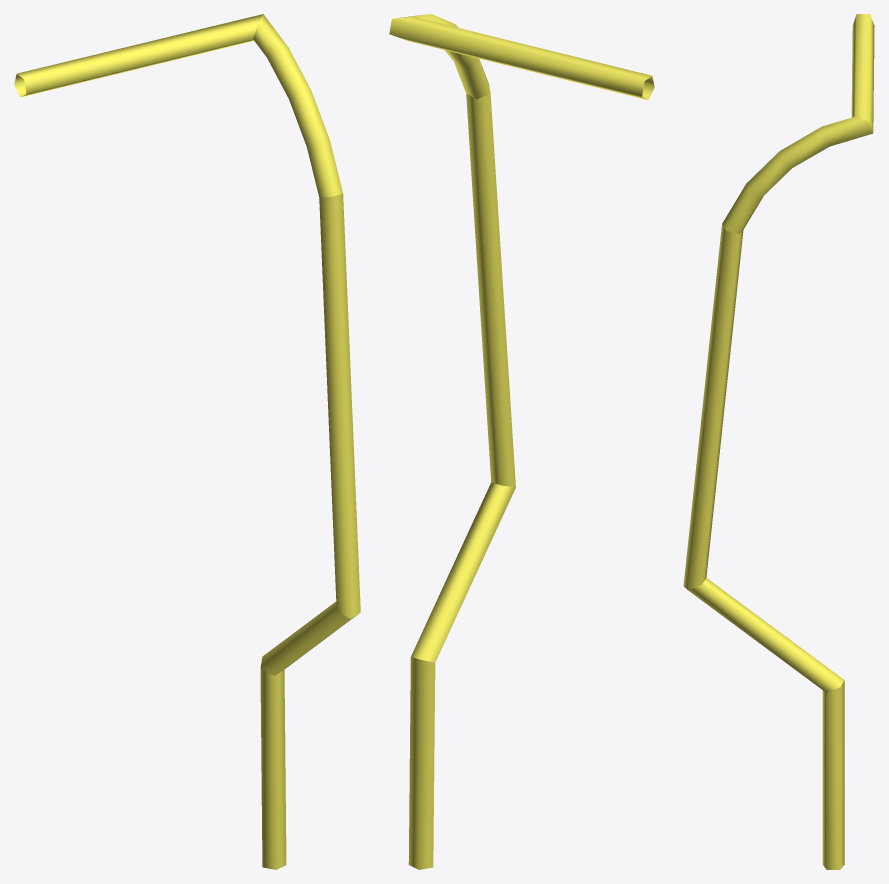
File: original-35.obj
3 renders of one model, left to right at view 1: azimuth 30°, elevation 25°; view 2: azimuth 150°, elevation 25°; view 3: azimuth 270°, elevation 25°, orthographic. The views are drawn at different scales.
Parts seen in each view (by area): view 1: #ID176; view 2: #ID176; view 3: #ID176.
Boxes of the visible parts, left/top/right/bottom form: #ID176: left=14, top=14, right=360, bottom=869; #ID176: left=389, top=14, right=654, bottom=869; #ID176: left=683, top=14, right=874, bottom=869.
Bounding box in the file's own units: 0.3563 × 1.15 × 0.2666.
